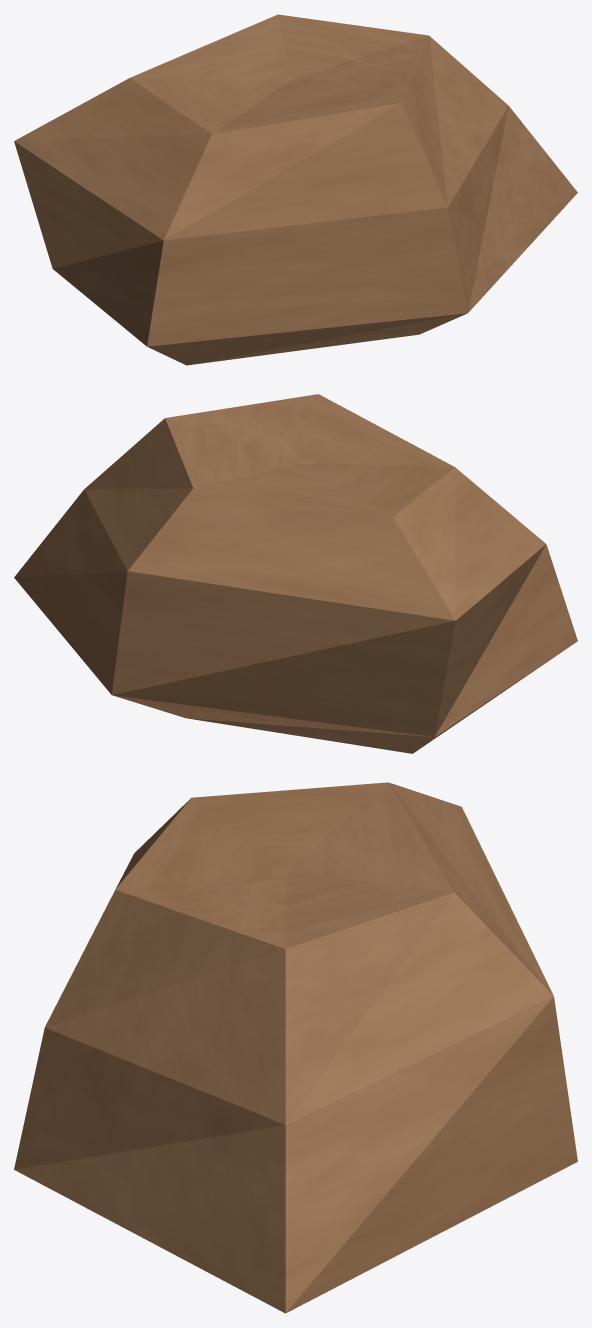
Rendered from SM_CN_Sandstone_A_LOD2.glb.
3 renders of one model, top to bottom at view 1: azimuth 30°, elevation 25°; view 2: azimuth 150°, elevation 25°; view 3: azimuth 270°, elevation 25°, orthographic. The views are drawn at different scales.
Parts seen in each view (by area): view 1: SM_CN_Sandstone_A_LOD2; view 2: SM_CN_Sandstone_A_LOD2; view 3: SM_CN_Sandstone_A_LOD2.
Part boxes in pixels (left/top/right/bottom): SM_CN_Sandstone_A_LOD2: left=14, top=14, right=577, bottom=365; SM_CN_Sandstone_A_LOD2: left=14, top=394, right=577, bottom=753; SM_CN_Sandstone_A_LOD2: left=14, top=782, right=577, bottom=1313.
Size of the model in its own units: 1.2 by 0.52 by 0.8566.
Materials: 1 (1 with a texture image).
